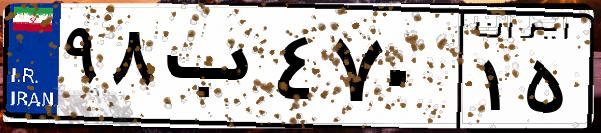0: (385, 28, 445, 110)
1: (475, 38, 525, 113)
4: (270, 28, 330, 110)
5: (525, 38, 570, 115)
7: (330, 28, 385, 110)
8: (110, 28, 158, 98)
9: (57, 26, 110, 100)
ب: (158, 20, 270, 120)
